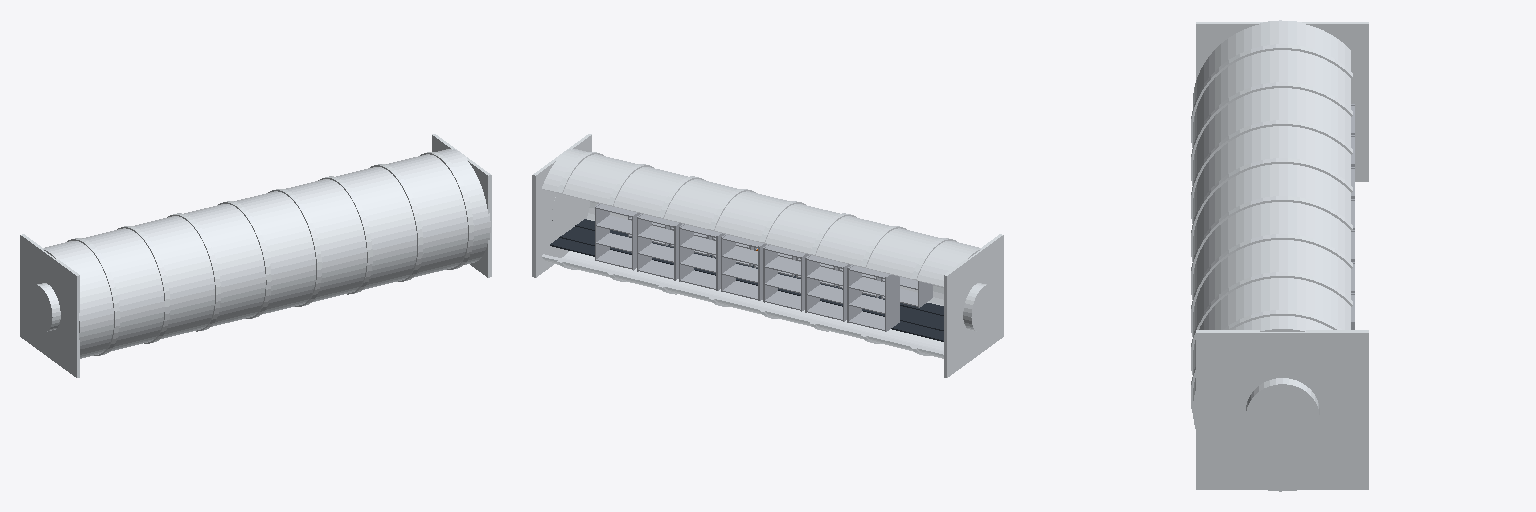
URDF robot description (llaso_lunar_cargo_module):
<?xml version="1.0" ?>
<robot name="llaso_lunar_cargo_module">

  <!-- ==================== MATERIALS ==================== -->
  <material name="hull_white">
    <color rgba="0.92 0.94 0.96 1.0"/>
  </material>
  <material name="metallic_slate">
    <color rgba="0.25 0.28 0.32 1.0"/>
  </material>
  <material name="rack_aluminum">
    <color rgba="0.75 0.77 0.80 1.0"/>
  </material>
  <material name="safety_orange">
    <color rgba="0.95 0.45 0.05 1.0"/>
  </material>
  <material name="ctb_blue">
    <color rgba="0.10 0.28 0.65 1.0"/>
  </material>

  <!-- ==================== CONTAINER BASE LINK ==================== -->
  <link name="cargo_container_hull">
    <inertial>
      <origin xyz="0 0 0" rpy="0 0 0"/>
      <mass value="4500.0"/>
      <inertia ixx="4500.0" ixy="0.0" ixz="0.0"
               iyy="58000.0" iyz="0.0"
               izz="58000.0"/>
    </inertial>
    <visual>
      <origin xyz="0 0 0" rpy="0 0 0"/>
      <geometry>
        <mesh filename="meshes/container_hull.stl" scale="1 1 1"/>
      </geometry>
      <material name="hull_white"/>
    </visual>
    <collision>
      <origin xyz="0 0 -0.72" rpy="0 0 0"/>
      <geometry>
        <box size="12.0 1.8 0.1"/>
      </geometry>
    </collision>
  </link>

  <!-- ==================== FLOOR & RAILS ==================== -->
  <link name="internal_infrastructure">
    <inertial>
      <origin xyz="0 0 0" rpy="0 0 0"/>
      <mass value="800.0"/>
      <inertia ixx="300.0" ixy="0" ixz="0" iyy="8000.0" iyz="0" izz="8000.0"/>
    </inertial>
    <visual>
      <origin xyz="0 0 0" rpy="0 0 0"/>
      <geometry>
        <mesh filename="meshes/floor_and_rails.stl" scale="1 1 1"/>
      </geometry>
      <material name="metallic_slate"/>
    </visual>
    <visual>
      <origin xyz="0 0 0" rpy="0 0 0"/>
      <geometry>
        <mesh filename="meshes/rack_framework.stl" scale="1 1 1"/>
      </geometry>
      <material name="rack_aluminum"/>
    </visual>
  </link>

  <joint name="infrastructure_fixed_joint" type="fixed">
    <parent link="cargo_container_hull"/>
    <child link="internal_infrastructure"/>
    <origin xyz="0 0 0" rpy="0 0 0"/>
  </joint>

  <!-- ==================== INTERNAL CARGO ROBOT: GANTRY X CARRIAGE ==================== -->
  <link name="gantry_trolley_x">
    <inertial>
      <origin xyz="0 0 0" rpy="0 0 0"/>
      <mass value="45.0"/>
      <inertia ixx="1.5" ixy="0" ixz="0" iyy="1.5" iyz="0" izz="2.0"/>
    </inertial>
    <visual>
      <origin xyz="0 0 1.20" rpy="0 0 0"/>
      <geometry>
        <box size="0.60 0.40 0.12"/>
      </geometry>
      <material name="safety_orange"/>
    </visual>
  </link>

  <!-- Prismatic rail joint along full 10m length of cargo module -->
  <joint name="gantry_rail_x_joint" type="prismatic">
    <parent link="internal_infrastructure"/>
    <child link="gantry_trolley_x"/>
    <origin xyz="0 0 0" rpy="0 0 0"/>
    <axis xyz="1 0 0"/>
    <limit lower="-5.0" upper="5.0" effort="500.0" velocity="1.5"/>
  </joint>

  <!-- ==================== GANTRY Y-SLIDE CROSS BRIDGE ==================== -->
  <link name="gantry_cross_slide_y">
    <inertial>
      <origin xyz="0 0 0" rpy="0 0 0"/>
      <mass value="25.0"/>
      <inertia ixx="0.8" ixy="0" ixz="0" iyy="0.8" iyz="0" izz="1.0"/>
    </inertial>
    <visual>
      <origin xyz="0 0 1.10" rpy="0 0 0"/>
      <geometry>
        <box size="0.25 0.80 0.08"/>
      </geometry>
      <material name="metallic_slate"/>
    </visual>
  </link>

  <joint name="gantry_slide_y_joint" type="prismatic">
    <parent link="gantry_trolley_x"/>
    <child link="gantry_cross_slide_y"/>
    <origin xyz="0 0 0" rpy="0 0 0"/>
    <axis xyz="0 1 0"/>
    <limit lower="-0.40" upper="0.40" effort="300.0" velocity="0.8"/>
  </joint>

  <!-- ==================== VERTICAL TELESCOPING MAST (Z-AXIS) ==================== -->
  <link name="gantry_mast_z">
    <inertial>
      <origin xyz="0 0 0" rpy="0 0 0"/>
      <mass value="18.0"/>
      <inertia ixx="0.5" ixy="0" ixz="0" iyy="0.5" iyz="0" izz="0.2"/>
    </inertial>
    <visual>
      <origin xyz="0 0 0.60" rpy="0 0 0"/>
      <geometry>
        <cylinder radius="0.05" length="0.90"/>
      </geometry>
      <material name="rack_aluminum"/>
    </visual>
  </link>

  <joint name="gantry_mast_z_joint" type="prismatic">
    <parent link="gantry_cross_slide_y"/>
    <child link="gantry_mast_z"/>
    <origin xyz="0 0 0" rpy="0 0 0"/>
    <axis xyz="0 0 1"/>
    <limit lower="-0.60" upper="0.20" effort="600.0" velocity="0.5"/>
  </joint>

  <!-- ==================== END-EFFECTOR GRIPPER / FORK ==================== -->
  <link name="gantry_gripper_tool">
    <inertial>
      <origin xyz="0 0 0" rpy="0 0 0"/>
      <mass value="8.0"/>
      <inertia ixx="0.1" ixy="0" ixz="0" iyy="0.1" iyz="0" izz="0.1"/>
    </inertial>
    <visual>
      <origin xyz="0 0.15 0.12" rpy="0 0 0"/>
      <geometry>
        <box size="0.35 0.30 0.05"/>
      </geometry>
      <material name="safety_orange"/>
    </visual>
  </link>

  <joint name="gripper_yaw_joint" type="revolute">
    <parent link="gantry_mast_z"/>
    <child link="gantry_gripper_tool"/>
    <origin xyz="0 0 0.10" rpy="0 0 0"/>
    <axis xyz="0 0 1"/>
    <limit lower="-3.14159" upper="3.14159" effort="150.0" velocity="2.0"/>
  </joint>

</robot>

--- Facts derived from the render (not from the file) ---
3 views of the same robot in one strip: view 1: azimuth 30°, elevation 25°; view 2: azimuth 150°, elevation 25°; view 3: azimuth 270°, elevation 25° (orthographic).
Model llaso_lunar_cargo_module with 6 links and 5 joints (1 revolute, 3 prismatic, 1 fixed), rooted at cargo_container_hull, posed every joint at zero.
Links seen in each view (by area): view 1: cargo_container_hull; view 2: cargo_container_hull, internal_infrastructure; view 3: cargo_container_hull, internal_infrastructure.
Link boxes in pixels (bbox=[...]): cargo_container_hull: bbox=[20, 134, 491, 377]; cargo_container_hull: bbox=[532, 134, 1003, 377]; internal_infrastructure: bbox=[550, 203, 943, 341]; cargo_container_hull: bbox=[1191, 20, 1368, 491]; internal_infrastructure: bbox=[1351, 104, 1354, 329].
Size in the robot's own frame: 12.79 by 2.99 by 3.07 metres.
Meshes: 3 distinct files referenced, 3 mesh visuals loaded (3 binary STL).
